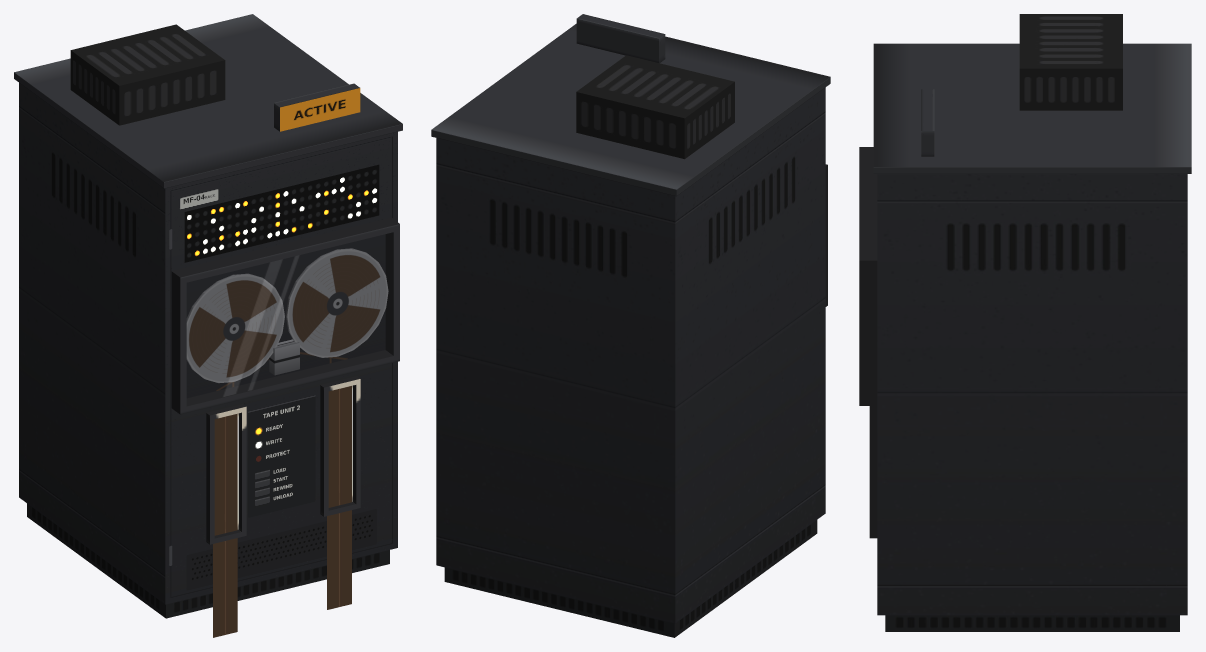
Rendered from cabinet-tape.glb.
3 views of the same model, side by side, from view 1: azimuth 30°, elevation 25°; view 2: azimuth 150°, elevation 25°; view 3: azimuth 270°, elevation 25° (orthographic). The views are drawn at different scales.
Parts seen in each view (by area): view 1: CabinetTape, Glass, LedPanel, ReelRight, ReelLeft, LoopLeft, LoopRight; view 2: CabinetTape; view 3: CabinetTape.
Part boxes in pixels (left/top/right/bottom): CabinetTape: left=14, top=14, right=402, bottom=618; Glass: left=187, top=232, right=392, bottom=405; LedPanel: left=184, top=164, right=379, bottom=262; ReelRight: left=285, top=248, right=388, bottom=357; ReelLeft: left=186, top=273, right=284, bottom=383; LoopLeft: left=213, top=413, right=237, bottom=637; LoopRight: left=327, top=386, right=351, bottom=609; CabinetTape: left=431, top=14, right=830, bottom=637; CabinetTape: left=859, top=14, right=1191, bottom=631.
Size of the model in its own units: 1.13 by 2.3 by 1.29.
Materials: 6 (6 with a texture image).
